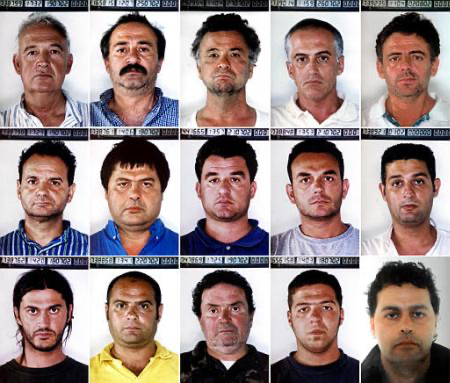Face: (374, 296, 437, 366), (293, 157, 344, 217), (111, 27, 158, 92), (19, 31, 68, 92), (200, 295, 252, 352), (107, 289, 158, 346), (202, 37, 250, 96), (292, 39, 337, 99), (110, 171, 160, 225), (291, 293, 339, 348), (386, 165, 431, 223), (21, 293, 66, 350), (205, 164, 248, 220), (384, 44, 428, 97), (23, 165, 67, 217)
